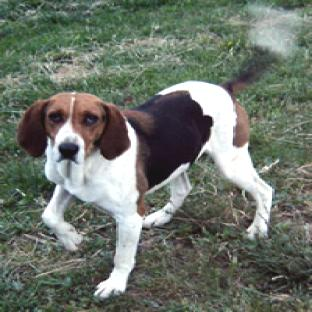Animal: (19, 60, 273, 296)
